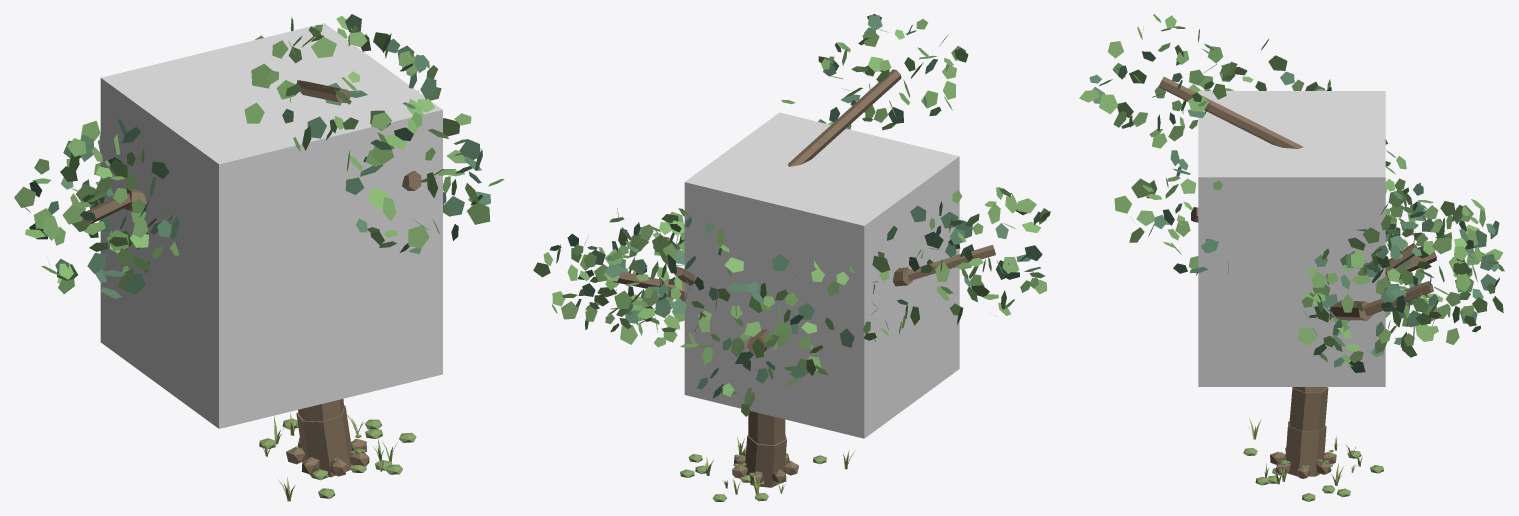
Rendered from tree_large.glb.
3 renders of one model, left to right at view 1: azimuth 30°, elevation 25°; view 2: azimuth 150°, elevation 25°; view 3: azimuth 270°, elevation 25°, orthographic. The views are drawn at different scales.
Parts seen in each view (by area): view 1: COL_tree_large, Nt_TreeLarge; view 2: COL_tree_large, Nt_TreeLarge; view 3: COL_tree_large, Nt_TreeLarge.
Part boxes in pixels (box(x1,y1,x2,y2)): COL_tree_large: box(100, 23, 442, 428); Nt_TreeLarge: box(14, 14, 504, 501); COL_tree_large: box(684, 112, 959, 438); Nt_TreeLarge: box(533, 14, 1050, 501); COL_tree_large: box(1198, 91, 1385, 386); Nt_TreeLarge: box(1079, 14, 1504, 501).
Bounding box in the file's own units: 5.4 × 5.37 × 4.95.
